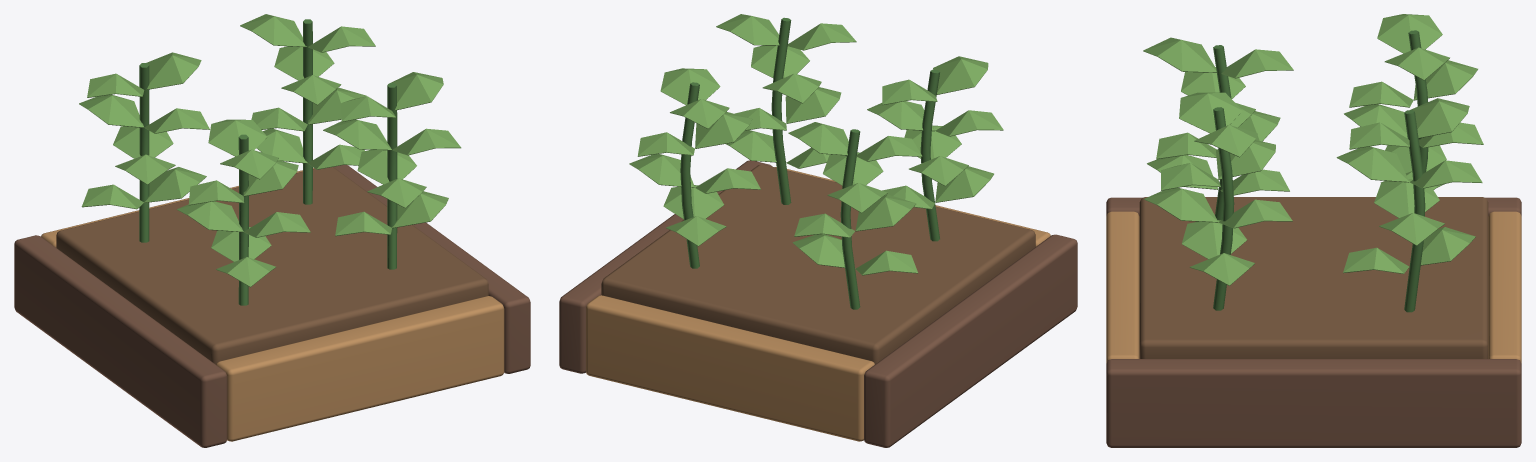
Rendered from garden.herb.melissa-growing.glb.
3 renders of one model, left to right at view 1: azimuth 30°, elevation 25°; view 2: azimuth 150°, elevation 25°; view 3: azimuth 270°, elevation 25°, orthographic. The views are drawn at different scales.
Parts seen in each view (by area): view 1: Cedar raised bed rail; view 2: Cedar raised bed rail; view 3: Cedar raised bed rail.
Part boxes in pixels (x1,y1,x2,y2): Cedar raised bed rail: [14, 14, 530, 447]; Cedar raised bed rail: [559, 14, 1077, 447]; Cedar raised bed rail: [1106, 14, 1521, 447].
Bounding box in the file's own units: 1 × 0.7812 × 1.
